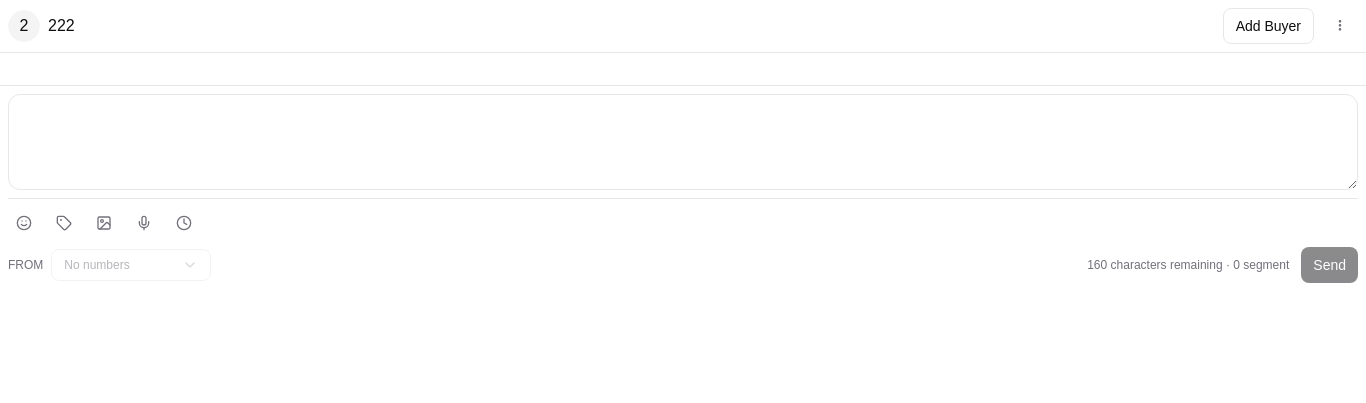
MessageComposer › sends message
This screenshot has width=1366, height=403.
Type "Hi" into the text box. click: (683, 142)
box: x1=8 y1=94 x2=1358 y2=190
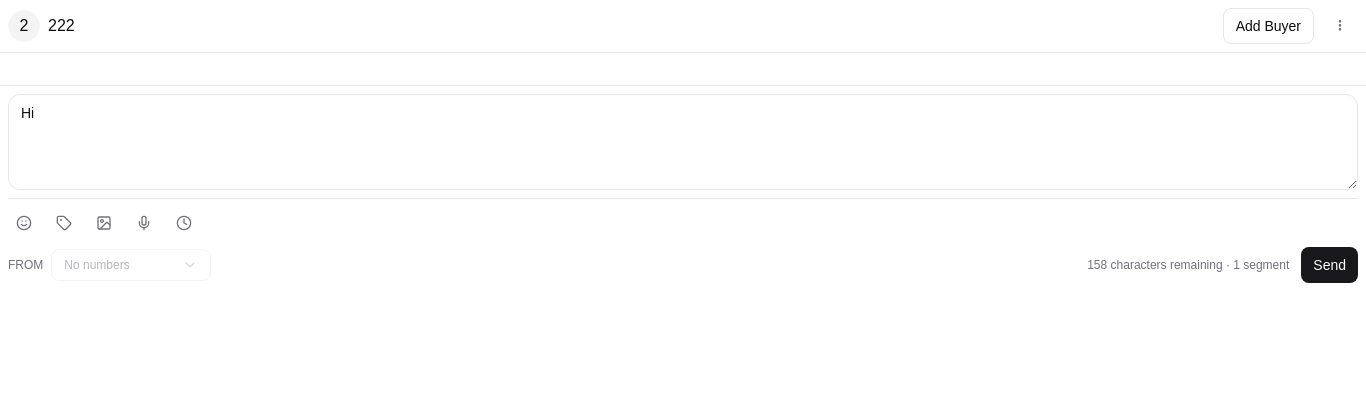
Click the button "Send". click: click(1330, 265)
box: x1=1301 y1=247 x2=1358 y2=283
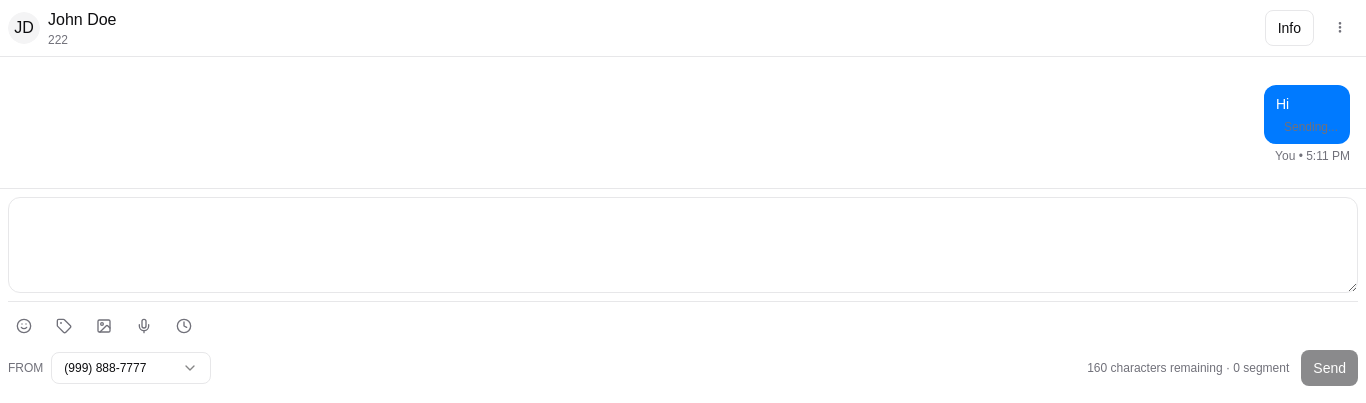
Expected: the text box is empty, x1=8 y1=197 x2=1358 y2=293
